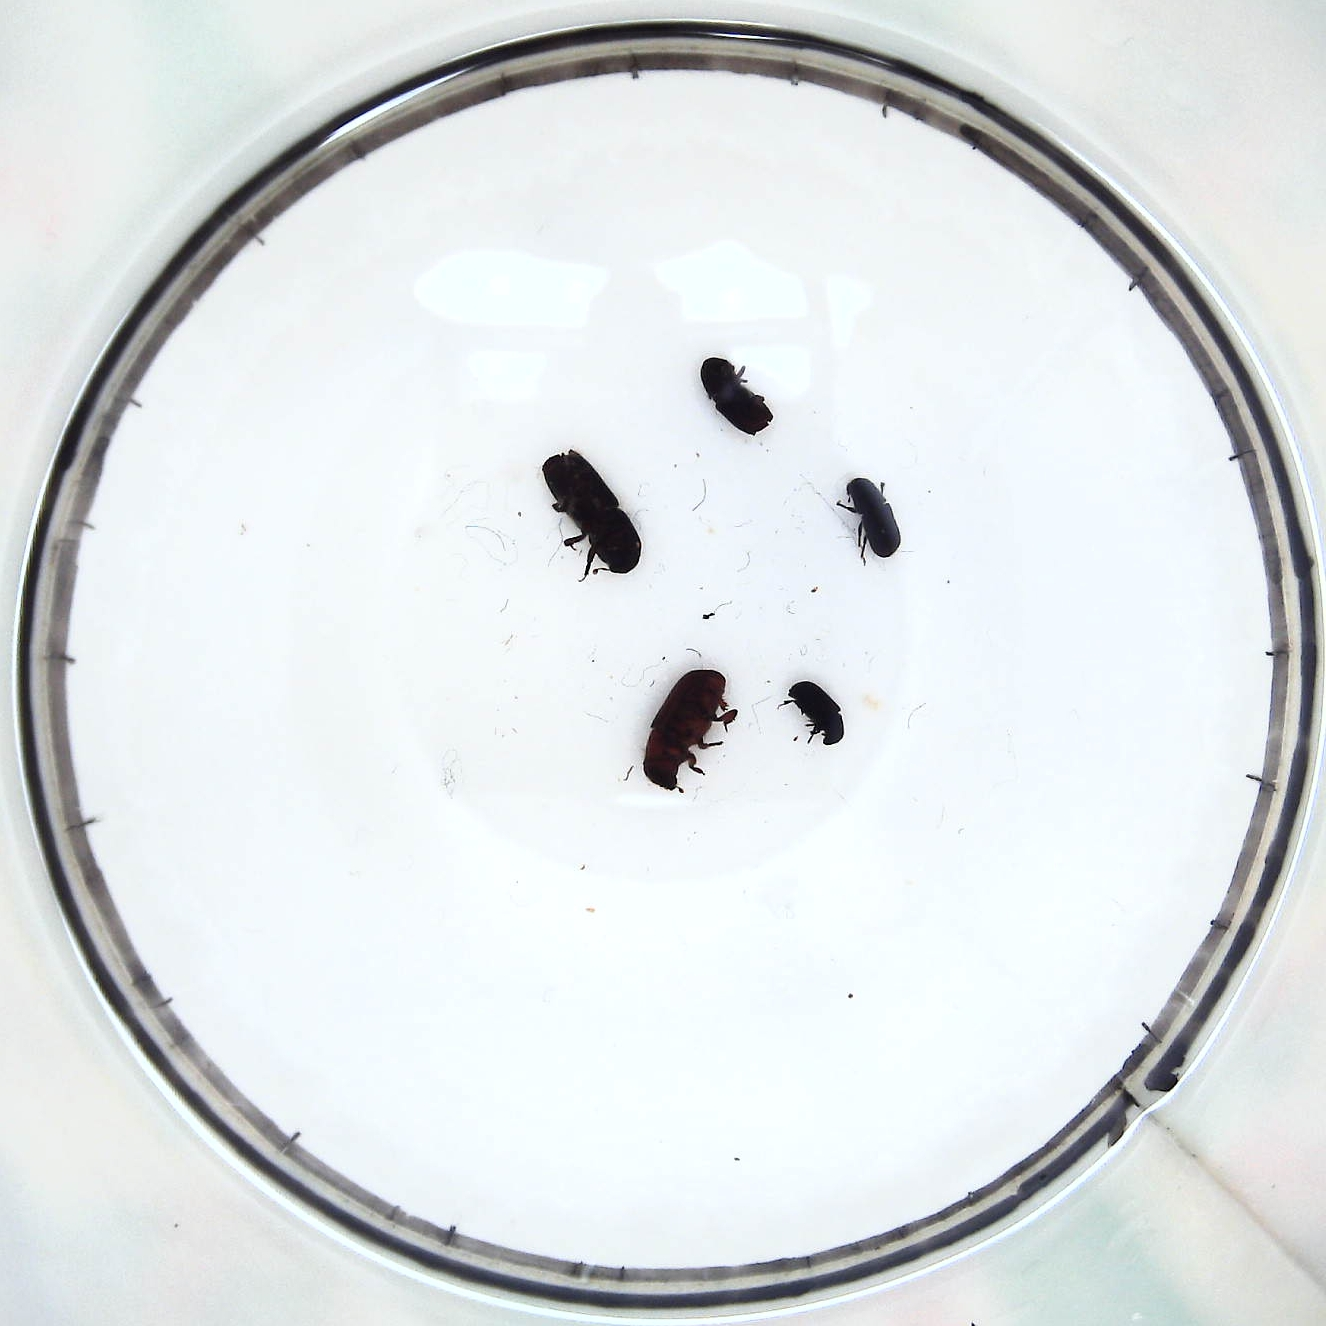Boerner: (538, 447, 645, 579)
Leconte: (647, 670, 732, 788)
Linnaeus: (701, 351, 777, 438)
armandi: (838, 469, 903, 561)
coleoptera: (781, 675, 848, 748)
